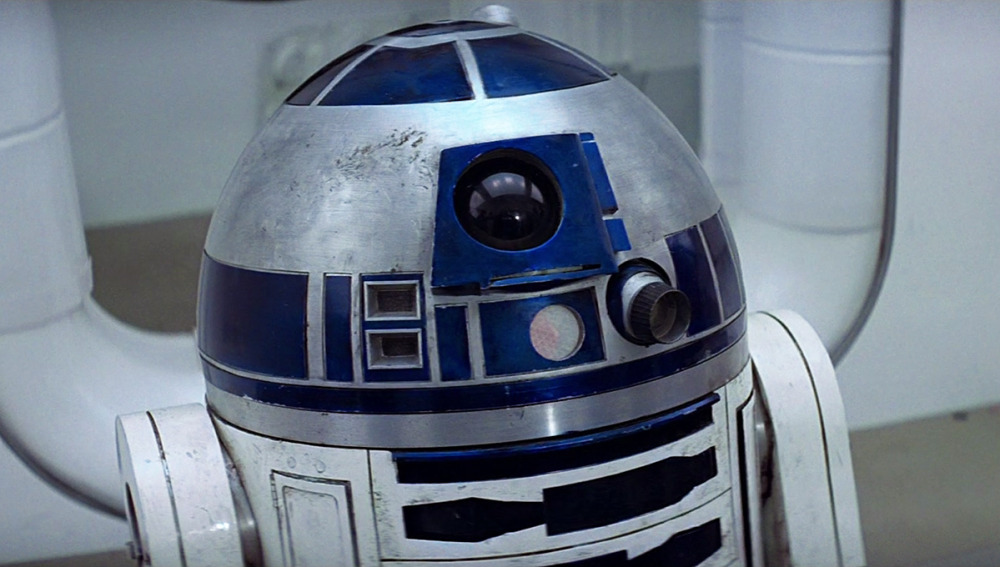r2d2: (120, 19, 861, 567)
